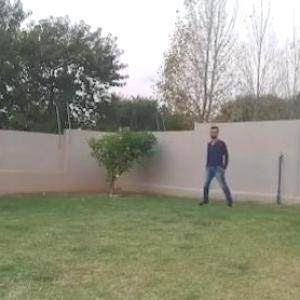follow: (204, 118, 227, 209)
